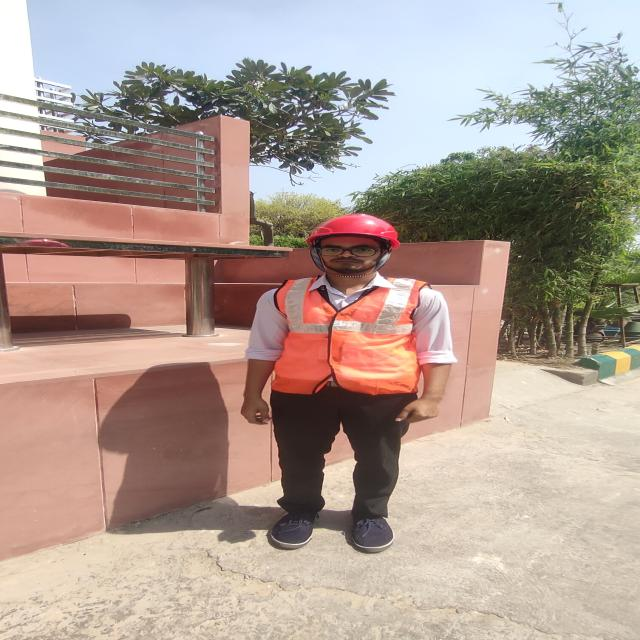safe: (245, 216, 458, 550)
